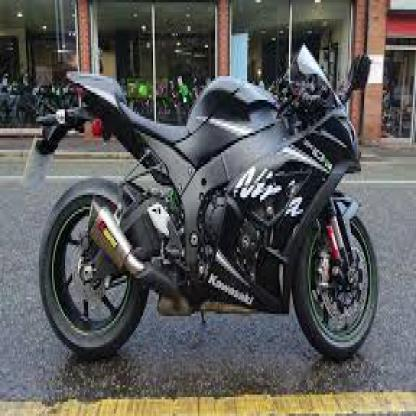Motorcycle: (24, 27, 381, 366)
